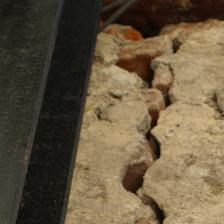Crack: (56, 23, 128, 195)
